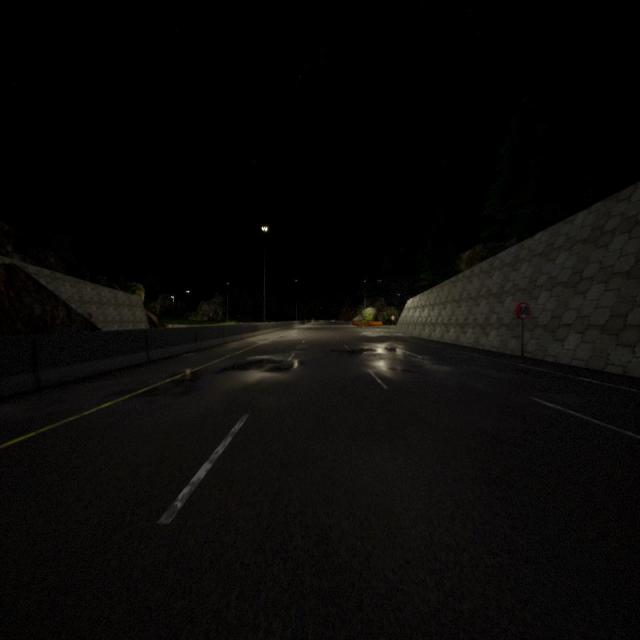Traffic_Signs: (515, 301, 531, 321), (391, 316, 395, 320)
